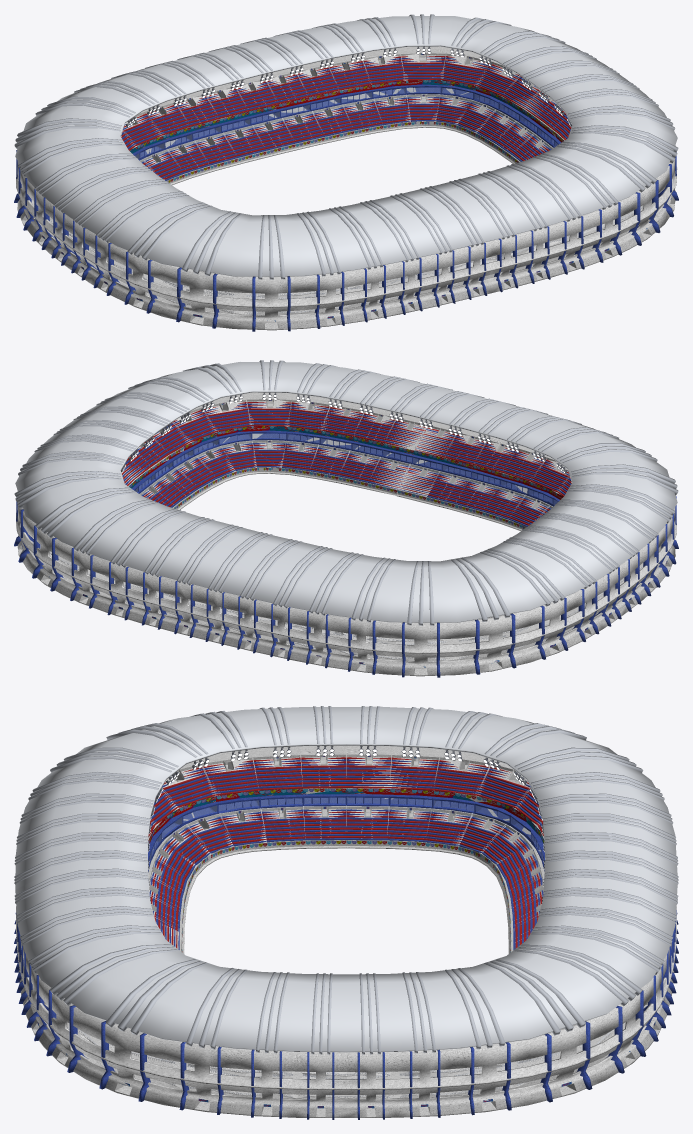
Rendered from stadium-stand.glb.
3 renders of one model, top to bottom at view 1: azimuth 30°, elevation 25°; view 2: azimuth 150°, elevation 25°; view 3: azimuth 270°, elevation 25°, orthographic. The views are drawn at different scales.
Visible parts, largest first — view 1: Techo, Grada sup, Grada inf.001, Palco, Pasarela, pasamanos; view 2: Techo, Grada sup, Grada inf.001, Palco, Pasarela, pasamanos; view 3: Techo, Grada inf.001, Grada sup, Palco, Pasarela, pasamanos.
Part boxes in pixels (x1,y1,x2,y2): Techo: (14, 14, 678, 331); Grada sup: (121, 46, 571, 153); Grada inf.001: (140, 87, 553, 297); Palco: (132, 84, 561, 160); Pasarela: (49, 55, 651, 314); pasamanos: (49, 202, 651, 313); Techo: (14, 360, 678, 677); Grada sup: (121, 392, 571, 499); Grada inf.001: (139, 433, 552, 643); Palco: (131, 430, 559, 506); Pasarela: (49, 401, 643, 660); pasamanos: (49, 552, 643, 659); Techo: (14, 706, 678, 1119); Grada inf.001: (148, 798, 544, 1076); Grada sup: (148, 745, 544, 842); Palco: (148, 794, 544, 872); Pasarela: (67, 757, 624, 1098); pasamanos: (67, 1027, 624, 1097).
Size of the model in its own units: 306 by 39.22 by 250.
11 materials, 6 textured.
